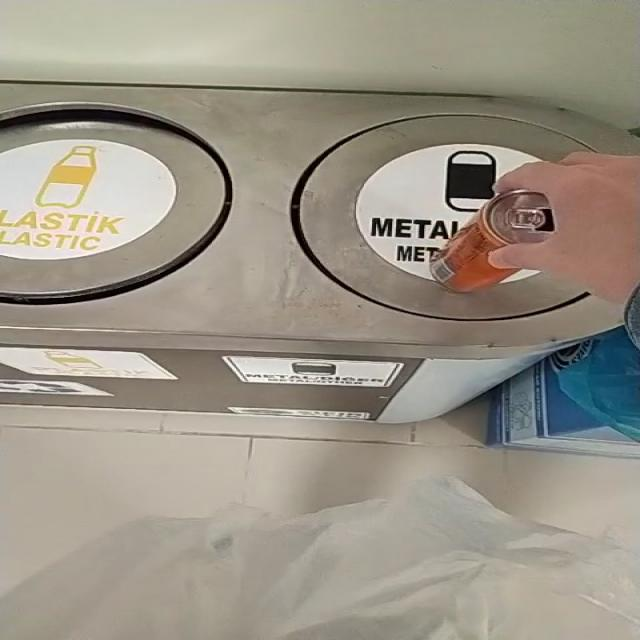bin: (1, 82, 637, 424), (0, 83, 637, 423)
metal: (431, 189, 553, 292)
